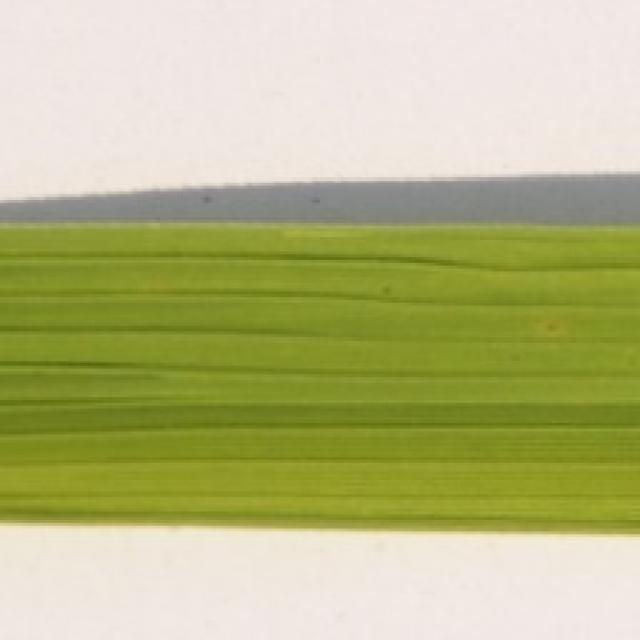Rice___Brown_Spot: (0, 221, 637, 534)
